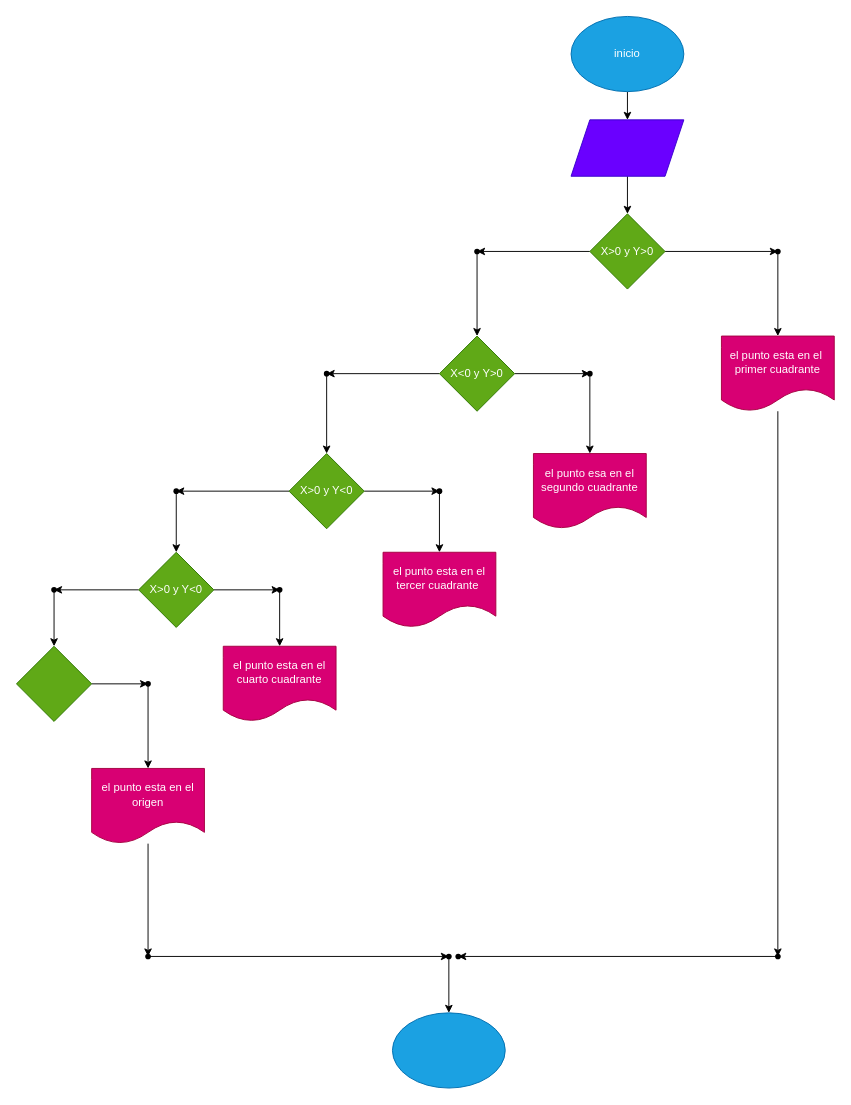
Image size: 851x1105. Some labels were removed from this diagram. Each missing label, with the box of its shape:
cordenadas X y Y: (570, 119, 684, 176)
fin: (392, 1012, 505, 1088)
X=0 y Y=0: (16, 645, 92, 721)
